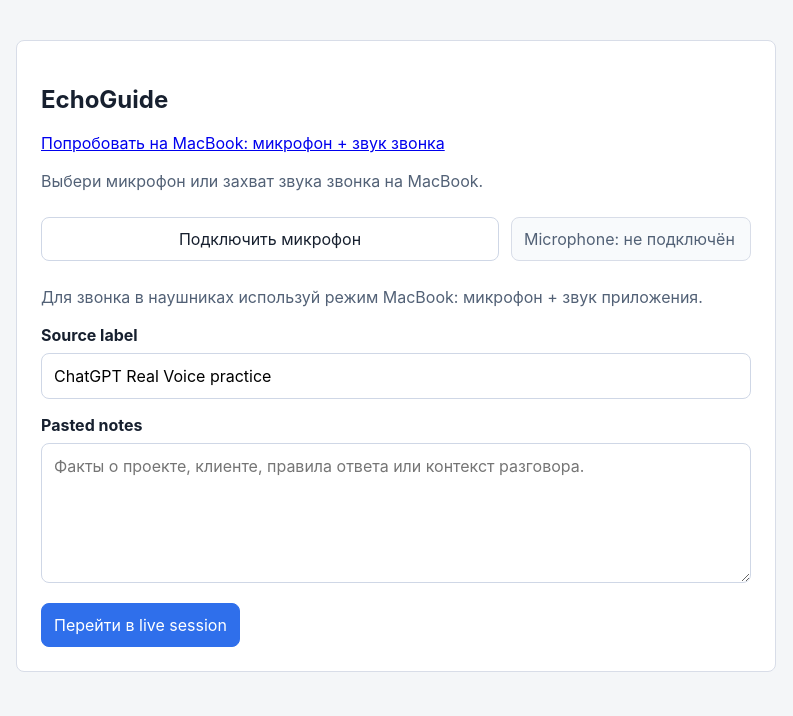
EchoGuide iPad setup flow › does not enter live mode until microphone and notes are present
The image size is (793, 716).
Click the button "Перейти в live session" at (140, 625), box [41,603,240,647]
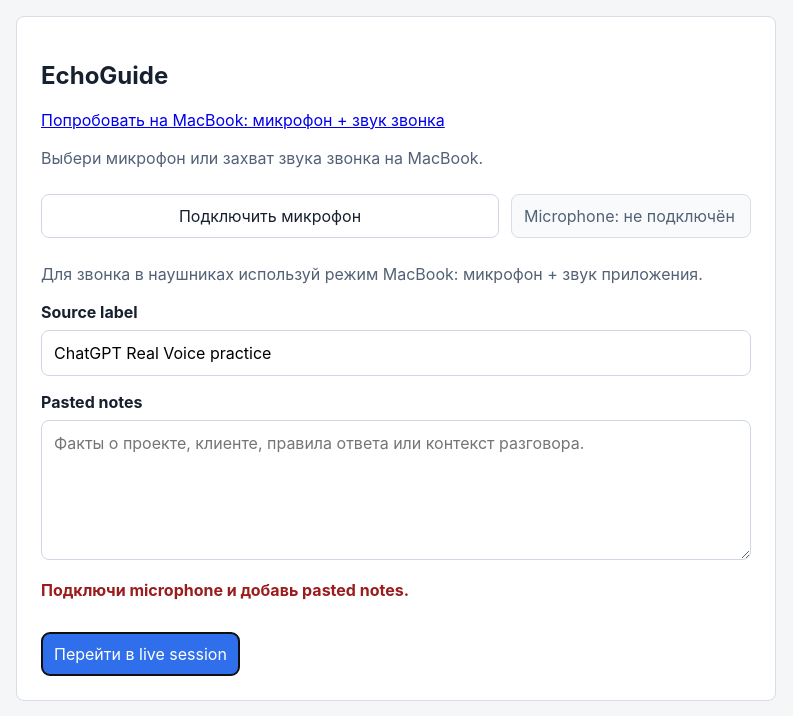
Result: the text "Подключи microphone и добавь pasted notes." is shown at [41,580,409,600]
